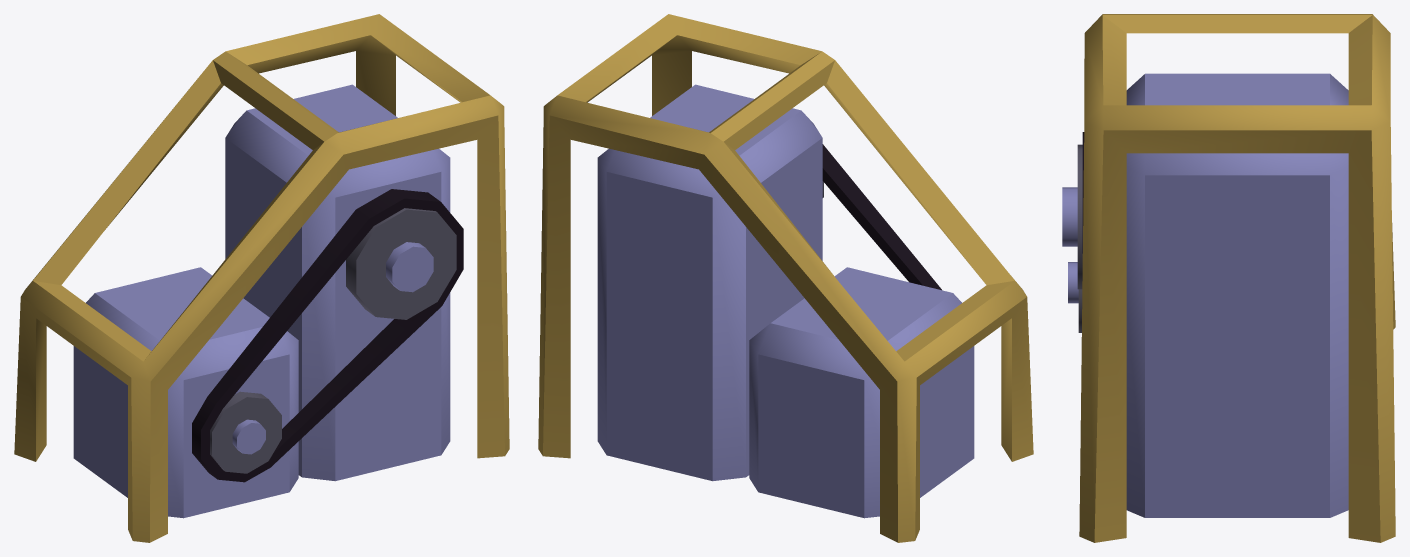
Rendered from Generator.fbx.
3 renders of one model, left to right at view 1: azimuth 30°, elevation 25°; view 2: azimuth 150°, elevation 25°; view 3: azimuth 270°, elevation 25°, orthographic. The views are drawn at different scales.
Parts seen in each view (by area): view 1: Generator; view 2: Generator; view 3: Generator.
Part boxes in pixels (box(x1,y1,x2,y2)): Generator: box(14, 14, 509, 542); Generator: box(538, 14, 1033, 542); Generator: box(1062, 14, 1395, 542).
Bounding box in the file's own units: 81.61 × 73.42 × 51.77.
